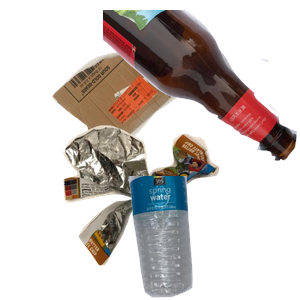cardboard: (50, 38, 233, 184)
glass: (103, 10, 300, 163)
plastic: (127, 176, 300, 300)
trash: (61, 123, 273, 300)
